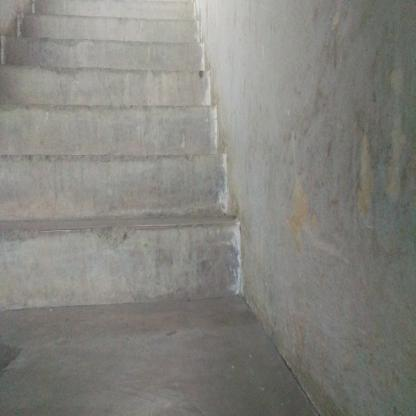stairs: (1, 36, 240, 318)
